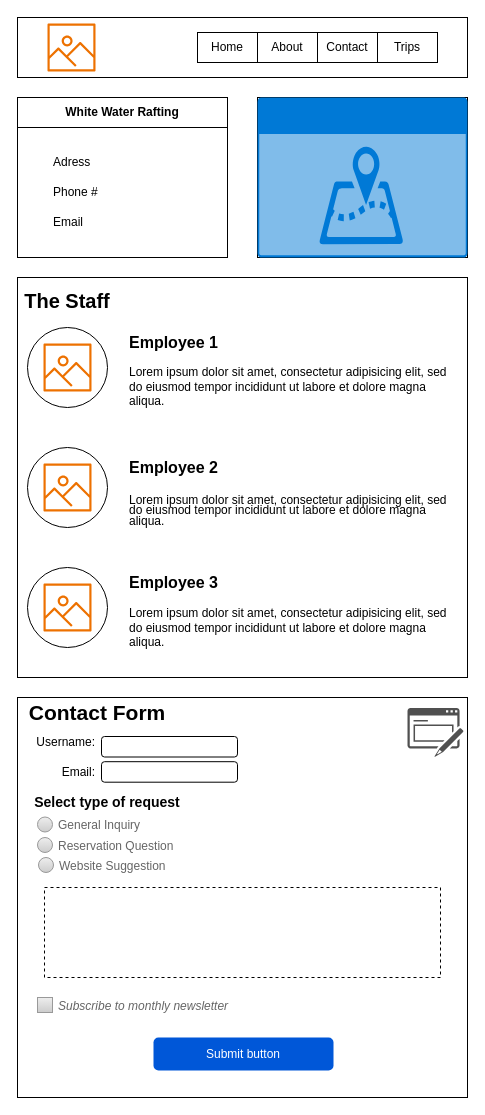
Image size: 485x1115. Some labels were removed from this diagram. Each missing label, with the box of its shape:
Insert Text: (44, 886, 440, 978)
Map: (257, 97, 467, 257)
